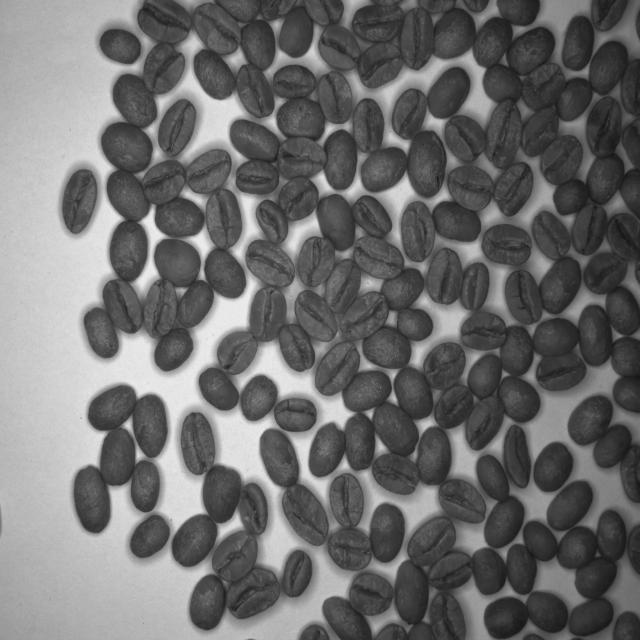good: (72, 462, 118, 536), (189, 0, 247, 58), (228, 106, 282, 168), (139, 34, 188, 102), (95, 121, 154, 175), (404, 130, 448, 202), (100, 164, 150, 227), (58, 167, 100, 241), (274, 127, 329, 183), (166, 507, 214, 570), (227, 566, 280, 623), (561, 388, 614, 445), (112, 72, 164, 129), (394, 555, 434, 629), (253, 428, 303, 487), (245, 239, 299, 293), (434, 475, 486, 531), (284, 486, 332, 546), (373, 398, 418, 462), (157, 90, 199, 158), (309, 339, 359, 396), (209, 526, 259, 583), (458, 393, 506, 452), (200, 246, 247, 306), (490, 157, 537, 217), (479, 220, 539, 267), (134, 386, 172, 460), (368, 500, 407, 572), (575, 296, 614, 368), (546, 480, 597, 535), (169, 280, 219, 336), (372, 445, 421, 502), (530, 346, 587, 395), (143, 276, 184, 344), (316, 592, 374, 640), (108, 217, 150, 283), (100, 275, 144, 338), (434, 5, 479, 66), (89, 23, 146, 71), (487, 94, 522, 172), (355, 38, 402, 96), (496, 366, 542, 425), (395, 198, 436, 264), (365, 316, 415, 370), (404, 514, 458, 564), (137, 0, 192, 49), (83, 383, 138, 432), (151, 236, 199, 292), (190, 47, 234, 108), (187, 140, 233, 198), (295, 231, 338, 293), (502, 264, 545, 326), (400, 2, 438, 72), (340, 288, 391, 340), (519, 56, 568, 110), (204, 188, 244, 254), (423, 65, 471, 120), (151, 193, 207, 240), (344, 0, 405, 43), (200, 461, 243, 522), (514, 20, 560, 77), (179, 411, 218, 478), (540, 251, 579, 318), (588, 33, 628, 98), (446, 163, 495, 216), (438, 109, 486, 163), (583, 92, 624, 155), (292, 287, 338, 343), (316, 64, 355, 130), (536, 127, 581, 184), (234, 58, 276, 119), (95, 431, 139, 489), (433, 195, 484, 245), (339, 367, 394, 413), (321, 122, 357, 192), (325, 251, 361, 321), (249, 289, 293, 346), (587, 414, 635, 466), (313, 193, 356, 251), (530, 309, 583, 356), (364, 142, 409, 197), (309, 416, 345, 484), (324, 524, 372, 575), (141, 155, 187, 208), (416, 426, 454, 490), (582, 242, 627, 296), (500, 424, 536, 491), (474, 10, 514, 70), (122, 512, 170, 562), (381, 267, 432, 314), (421, 337, 466, 390), (482, 60, 526, 114), (586, 151, 628, 207), (279, 98, 326, 148), (558, 8, 594, 73), (190, 572, 226, 637), (81, 310, 125, 363), (352, 237, 406, 280), (323, 472, 366, 526), (484, 492, 524, 550), (534, 440, 574, 498), (424, 244, 462, 305), (212, 326, 260, 374), (277, 319, 316, 378), (456, 308, 508, 352), (468, 541, 508, 598), (125, 458, 164, 516), (554, 73, 598, 124), (343, 570, 394, 614), (351, 92, 386, 156), (470, 448, 510, 504), (317, 21, 359, 74), (529, 206, 571, 259), (562, 595, 620, 633), (478, 594, 528, 638), (431, 382, 473, 434), (576, 552, 618, 604), (272, 173, 319, 219), (502, 322, 539, 380), (601, 285, 640, 340), (570, 203, 609, 257), (196, 364, 238, 414), (242, 368, 277, 428), (518, 109, 560, 159), (347, 408, 377, 478), (242, 15, 276, 76), (151, 325, 196, 370), (236, 158, 282, 202), (279, 8, 315, 64), (458, 260, 494, 316), (396, 368, 434, 421), (428, 590, 468, 640), (429, 549, 475, 592), (553, 524, 596, 570), (273, 394, 321, 434), (395, 84, 429, 140), (521, 516, 559, 566), (284, 544, 318, 599), (270, 63, 318, 101), (597, 508, 629, 564), (355, 195, 393, 242), (240, 483, 272, 538), (506, 542, 538, 597), (466, 350, 504, 396), (396, 302, 437, 344), (605, 213, 640, 262), (527, 592, 570, 630), (607, 327, 640, 375), (552, 172, 589, 214), (254, 198, 288, 243)
